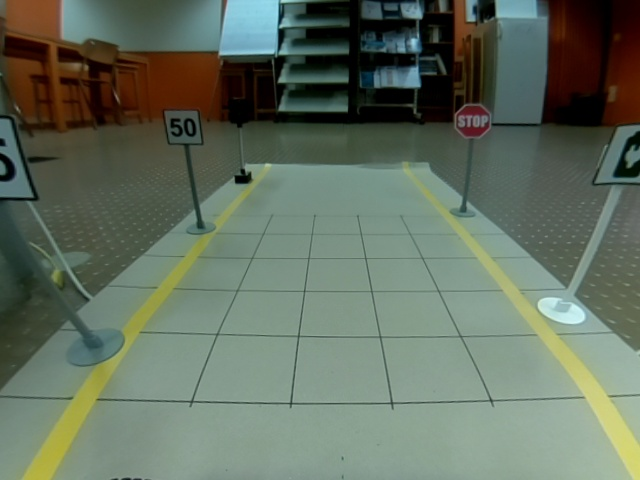battery: (593, 123, 640, 185)
speed25: (1, 113, 38, 200)
speed50: (162, 109, 204, 145)
stop: (454, 104, 492, 139)
trafficLightOff: (228, 97, 250, 124)
